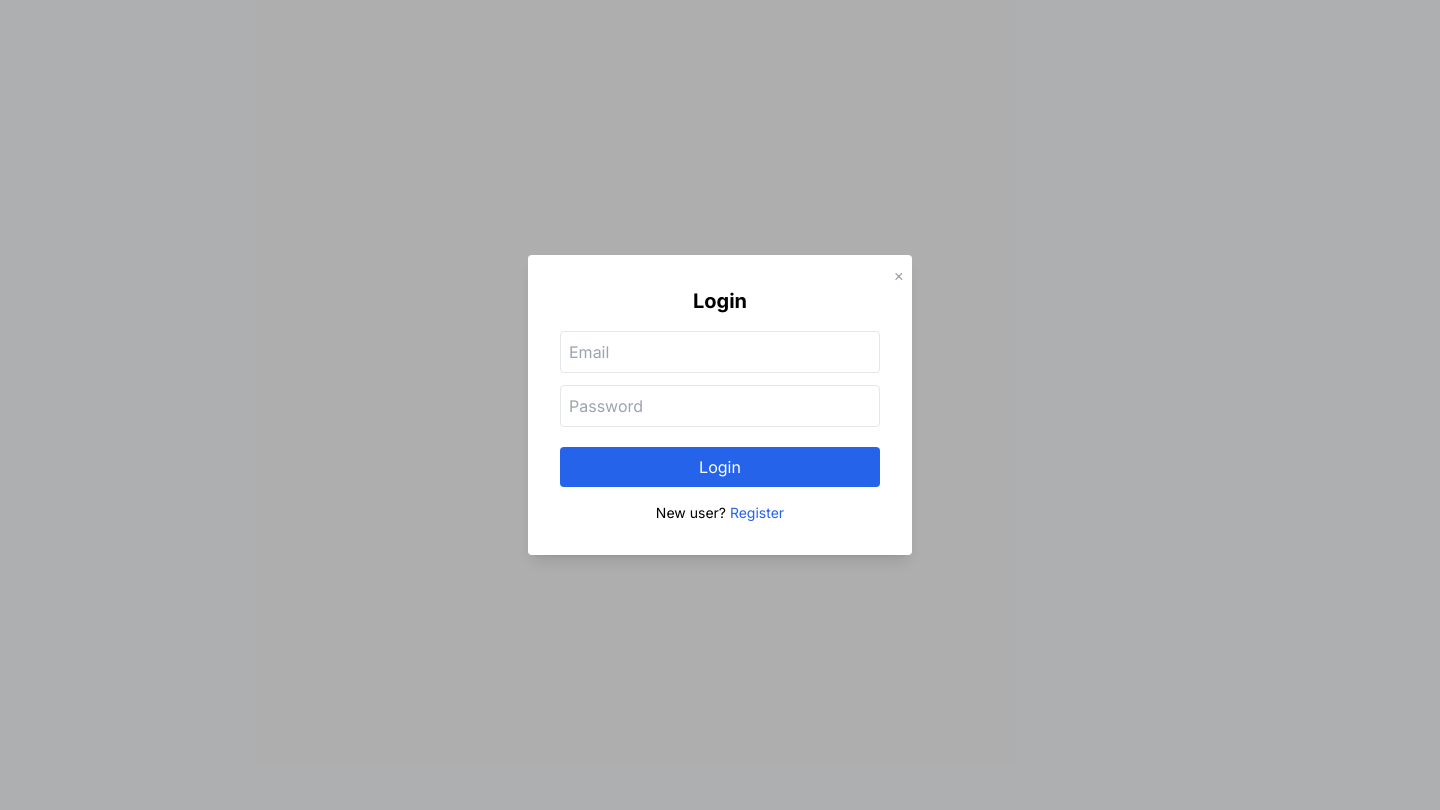
AuthModal additional coverage › shows error if fetch throws
Type "fail@ex.com" into the field with placeholder "Email" at (720, 352), box [560, 331, 880, 373]
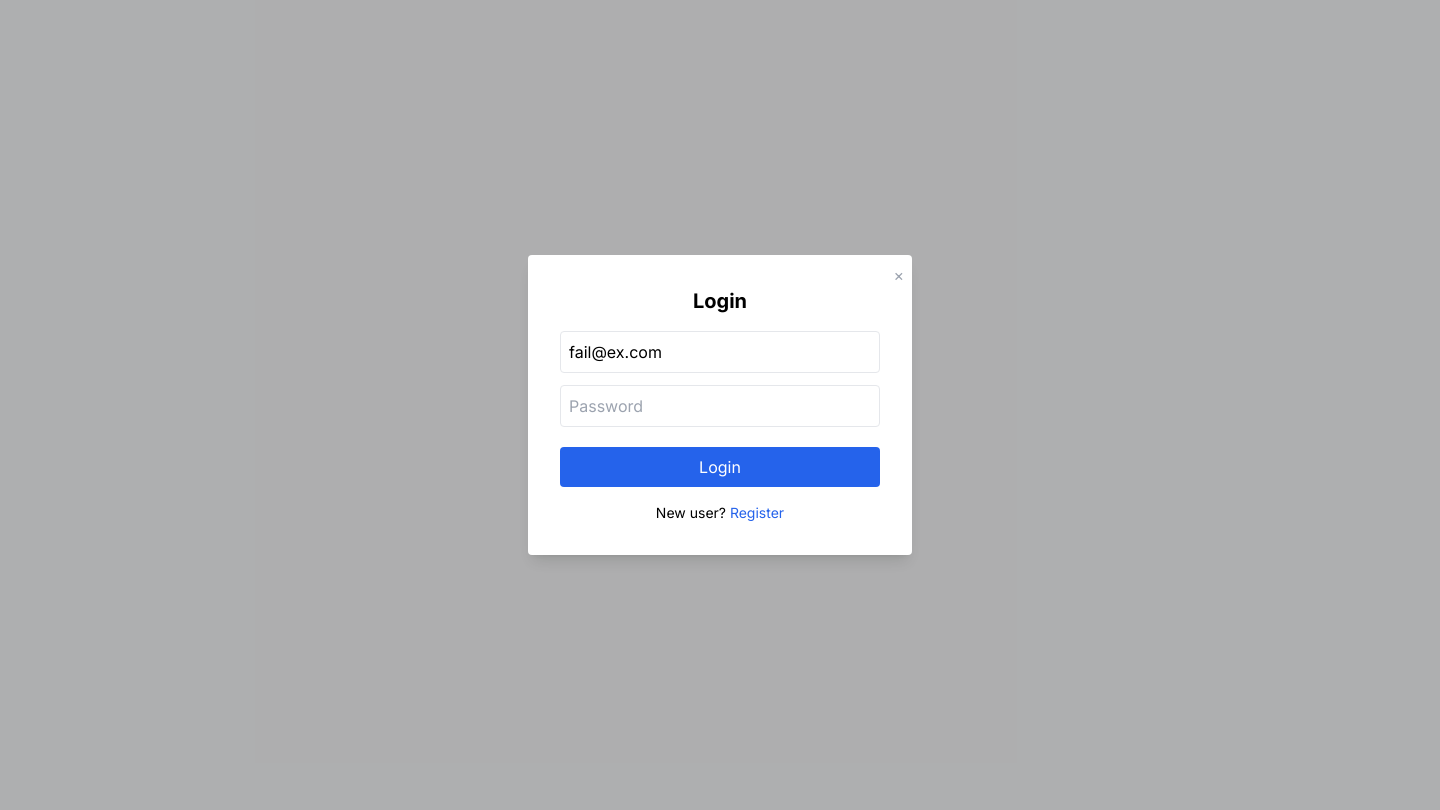
Type "fail" into the password field with placeholder "Password" at (720, 406), box [560, 385, 880, 427]
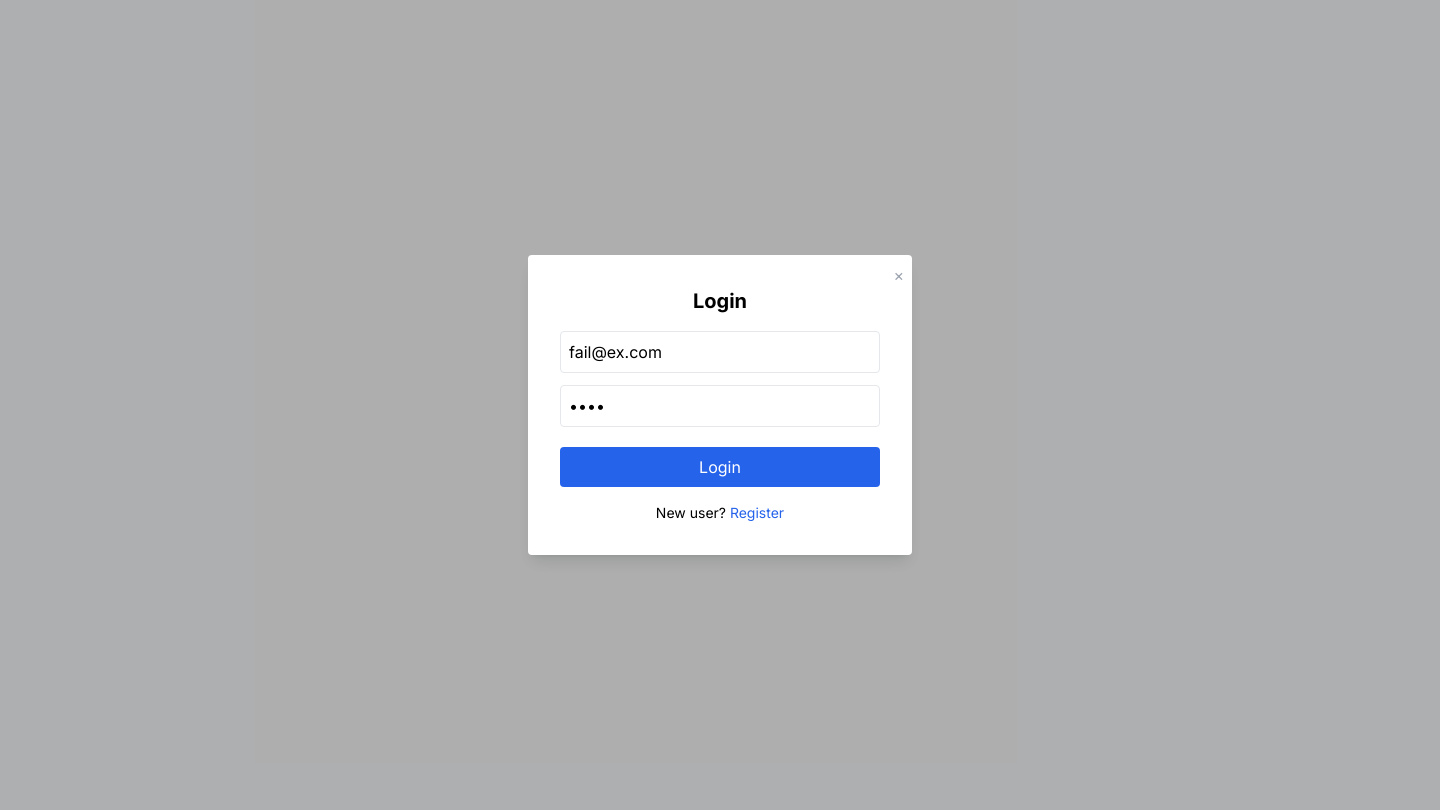
Click the button "Login" at (720, 467), box [560, 447, 880, 487]
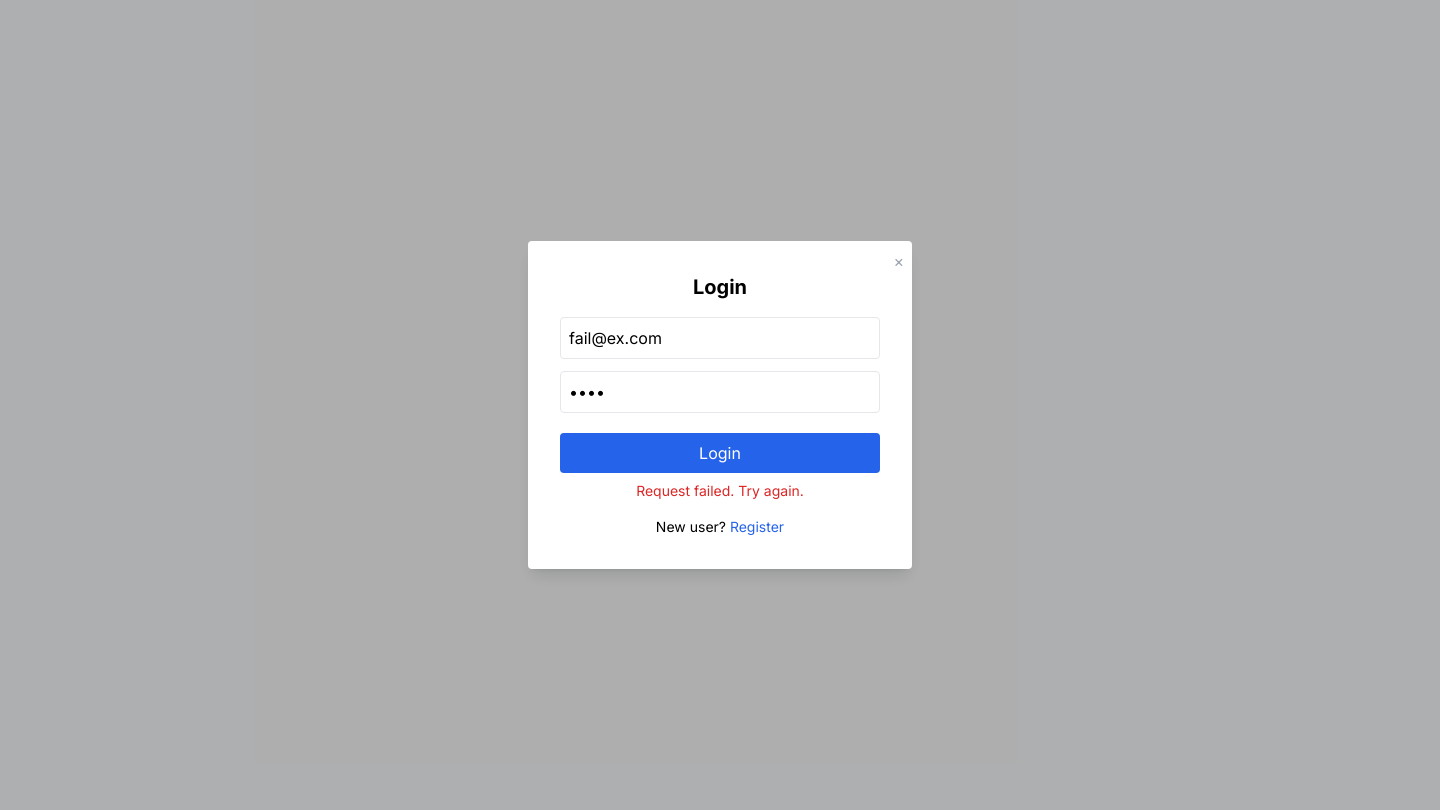
expect the text "Request failed. Try again." is shown: met, box [636, 482, 804, 499]
